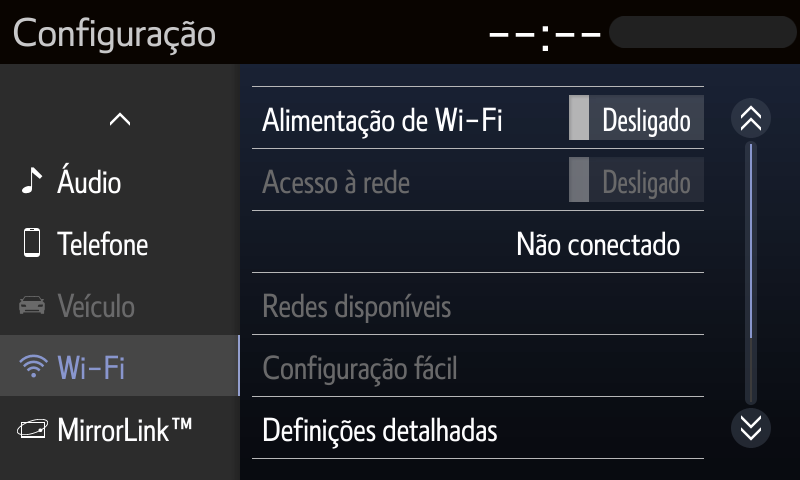touchPart: (251, 81, 706, 150), (250, 394, 710, 461), (16, 221, 171, 262), (14, 411, 195, 446), (17, 158, 125, 197), (729, 405, 773, 455), (726, 97, 769, 139), (105, 110, 137, 131)
untouchPart: (250, 143, 704, 218), (250, 267, 707, 340), (248, 331, 710, 402), (1, 334, 239, 401), (478, 10, 798, 54), (11, 15, 213, 57), (17, 283, 134, 324)
